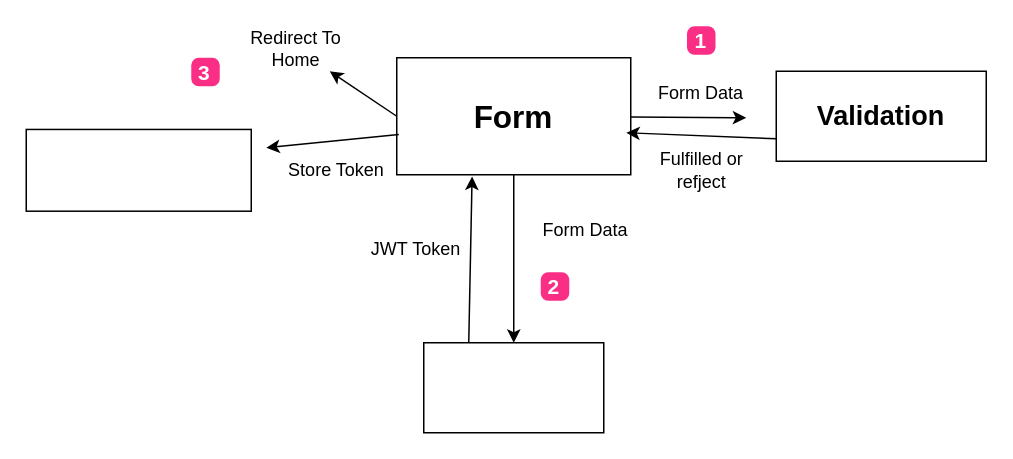
This 1013x459 diagram has some shape labels left out. Here are the shapes that lost their labels. From the top down, the centre of each, then its label:
At pixel 138 169: "Local Storage".
At pixel 513 387: "Server".
